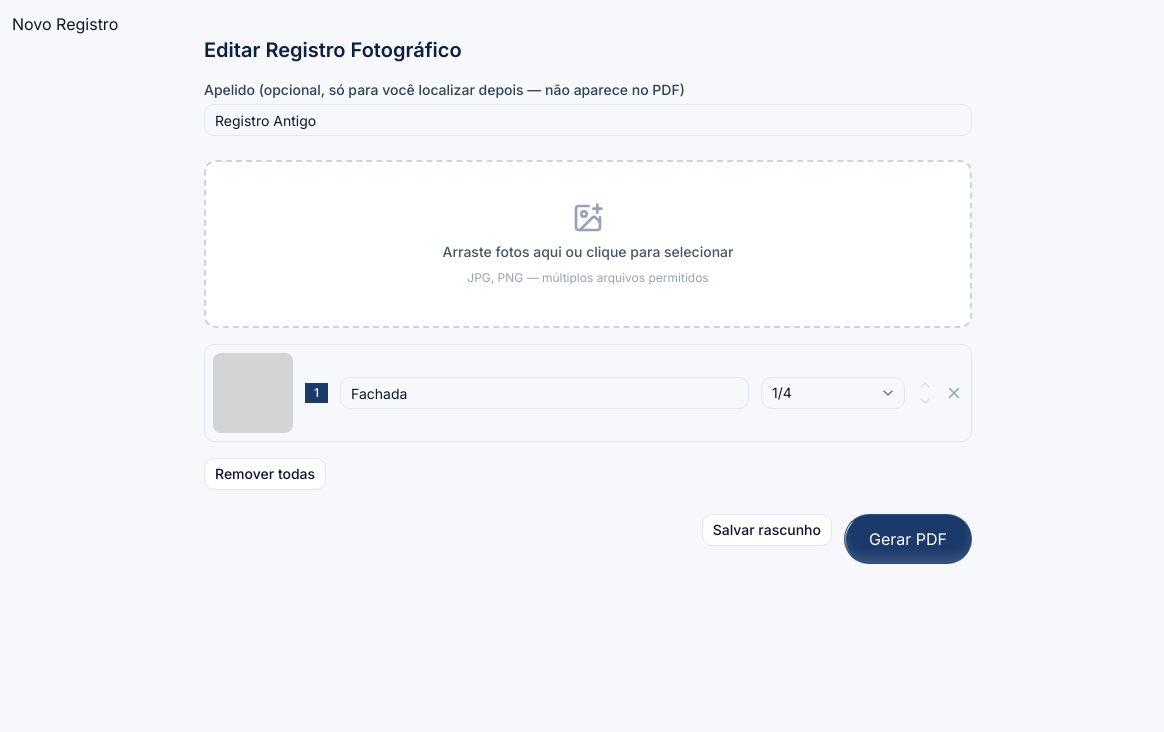
NewLaudo › generates the PDF and shows an error if the download itself fails
The width and height of the screenshot is (1164, 732).
What coordinates should you click on to do the following:
click the button "Gerar PDF"
I would click on:
 (908, 539)
Its box is left=844, top=514, right=972, bottom=564.
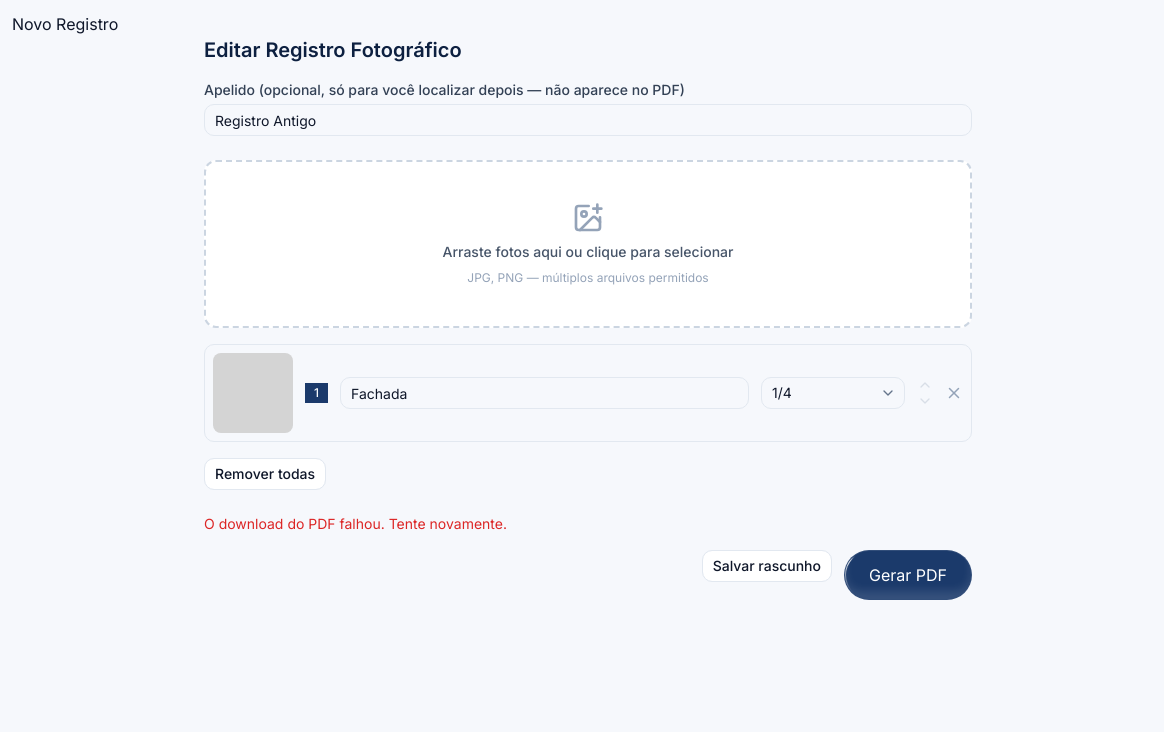
Check: the text "O download do PDF falhou. Tente novamente." is shown, box left=204, top=515, right=507, bottom=532
